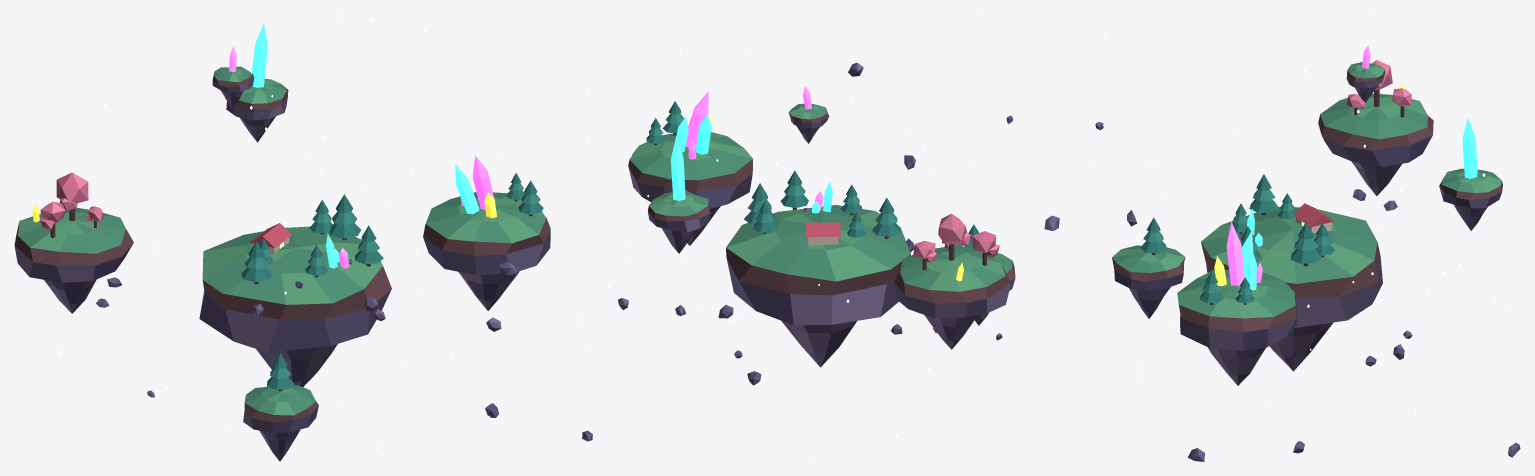
The model's file is islands.glb.
3 views of the same model, side by side, from view 1: azimuth 30°, elevation 25°; view 2: azimuth 150°, elevation 25°; view 3: azimuth 270°, elevation 25° (orthographic). The views are drawn at different scales.
Parts seen in each view (by area): view 1: island_main, island_crystal, island_blossom, island_small, island_tower, island_tiny, blossom_0, pine_main_0, pine_main_4, crystal_tower, pine_main_2, cabin (+4 smaller); view 2: island_main, island_blossom, island_crystal, island_tower, island_tiny, blossom_0, cabin, crystal_tower, pine_main_4, pine_main_2, crystal_c_0, blossom_2 (+4 smaller); view 3: island_main, island_crystal, island_blossom, island_small, island_tower, island_tiny, crystal_c_0, pine_main_0, crystal_tower, cabin, pine_main_4, pine_small.
Boxes of the visible parts, x1,y1,x2,y2 form: island_main: (199, 226, 391, 386); island_crystal: (423, 192, 550, 310); island_blossom: (14, 207, 133, 313); island_small: (243, 385, 318, 461); island_tower: (226, 78, 288, 142); island_tiny: (212, 66, 254, 107); blossom_0: (56, 172, 88, 221); pine_main_0: (329, 194, 360, 240); pine_main_4: (241, 241, 271, 284); crystal_tower: (252, 23, 267, 87); pine_main_2: (355, 225, 383, 266); cabin: (250, 223, 292, 254); island_main: (726, 205, 910, 367); island_blossom: (894, 245, 1010, 349); island_crystal: (628, 132, 752, 245); island_tower: (648, 190, 710, 253); island_tiny: (788, 103, 828, 143); blossom_0: (938, 213, 970, 260); cabin: (805, 222, 840, 245); crystal_tower: (670, 136, 685, 200); pine_main_4: (872, 197, 900, 238); pine_main_2: (780, 170, 808, 209); crystal_c_0: (685, 91, 708, 147); blossom_2: (971, 231, 999, 265); island_main: (1201, 207, 1382, 371); island_crystal: (1177, 269, 1297, 385); island_blossom: (1318, 93, 1433, 196); island_small: (1112, 245, 1185, 318); island_tower: (1439, 168, 1502, 230); island_tiny: (1346, 62, 1385, 102); crystal_c_0: (1226, 222, 1244, 285); pine_main_0: (1290, 221, 1322, 266); crystal_tower: (1462, 118, 1477, 178); cabin: (1293, 203, 1334, 232); pine_main_4: (1249, 174, 1278, 215); pine_small: (1140, 217, 1166, 254).
Size of the model in its own units: 18.1 by 13.48 by 17.15.
